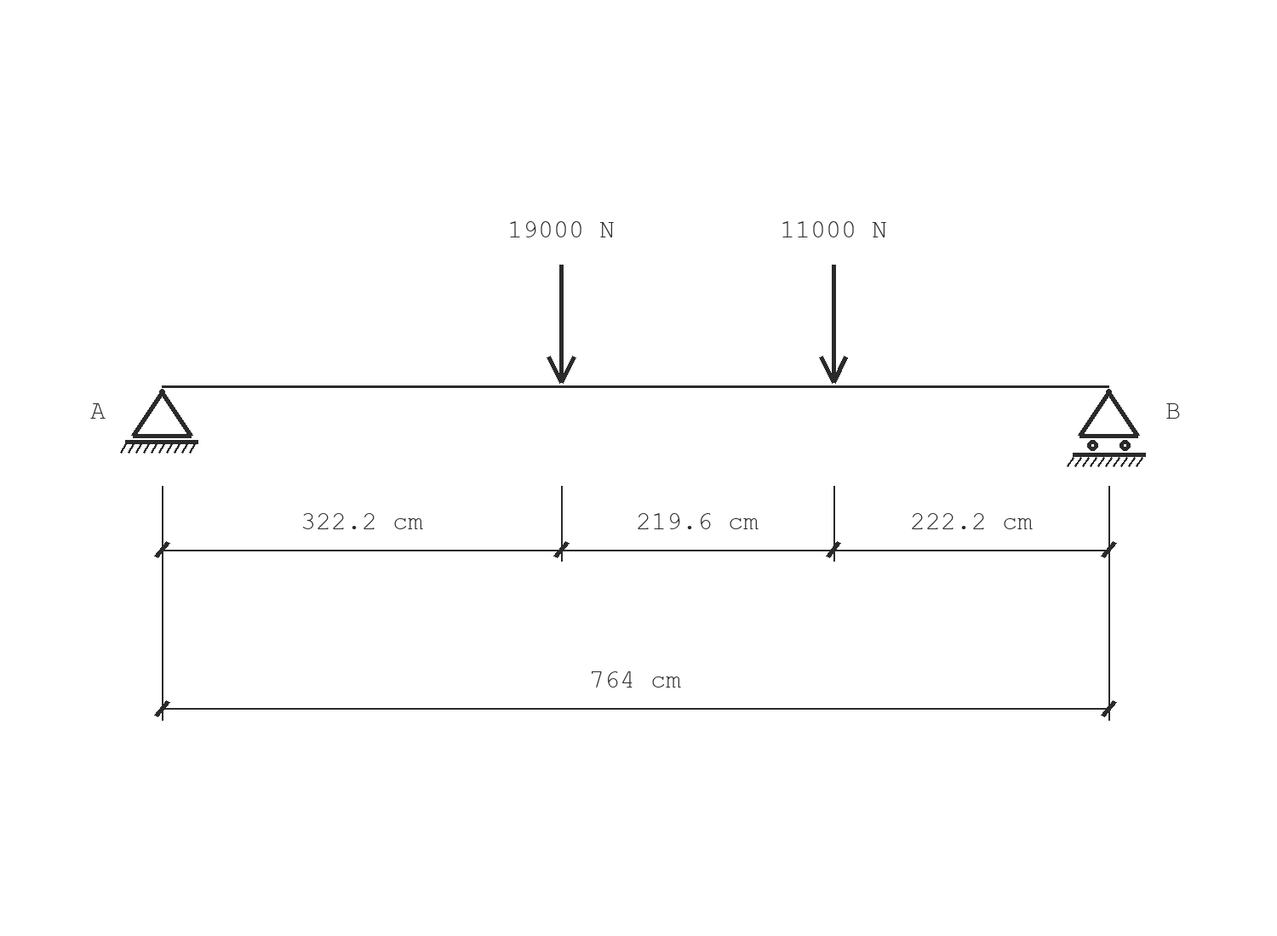pin_support: (120, 389, 198, 454)
point_load: (547, 265, 576, 384), (819, 265, 848, 384)
roller_support: (1067, 389, 1146, 467)
